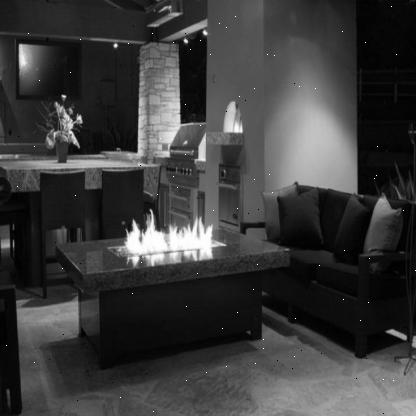fire: (120, 203, 218, 262)
